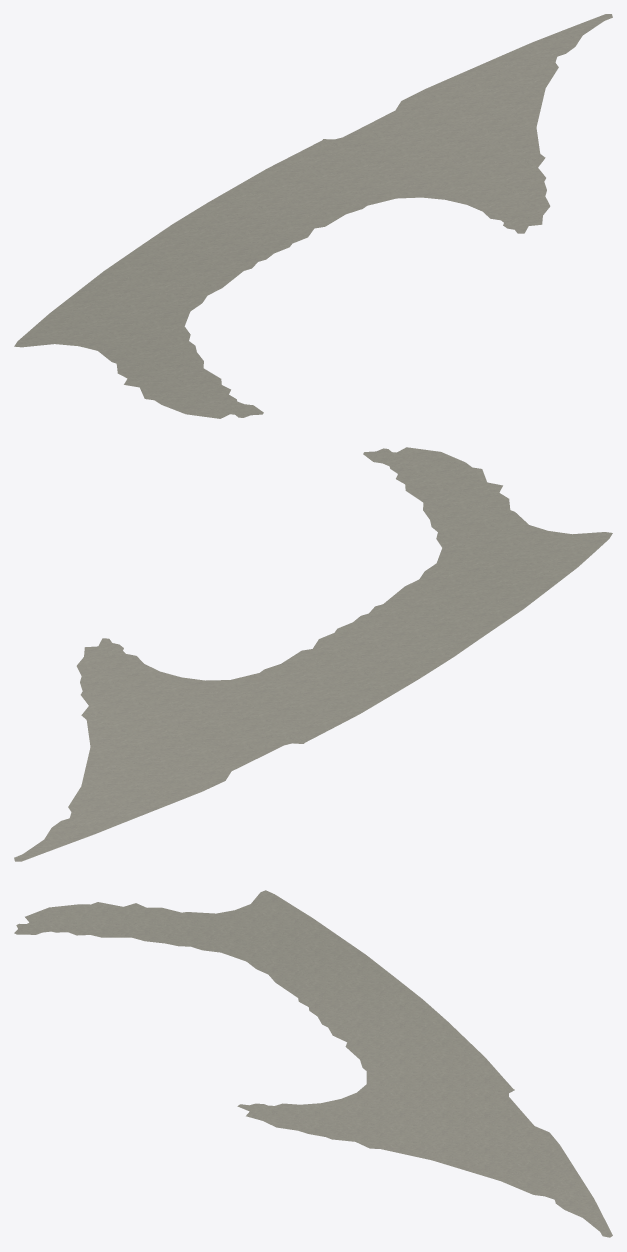
The model's file is path_02.glb.
The picture shows the model from 3 angles, top to bottom: view 1: azimuth 30°, elevation 25°; view 2: azimuth 210°, elevation 25°; view 3: azimuth 270°, elevation 25°; orthographic projection. The views are drawn at different scales.
Visible parts, largest first — view 1: path_02.surface; view 2: path_02.surface; view 3: path_02.surface.
Part boxes in pixels (<box>): path_02.surface: <box>14,14,612,418</box>; path_02.surface: <box>14,447,612,861</box>; path_02.surface: <box>14,890,612,1237</box>.
Bounding box in the file's own units: 38.9 × 0.4013 × 28.19.
1 material, 1 textured.
